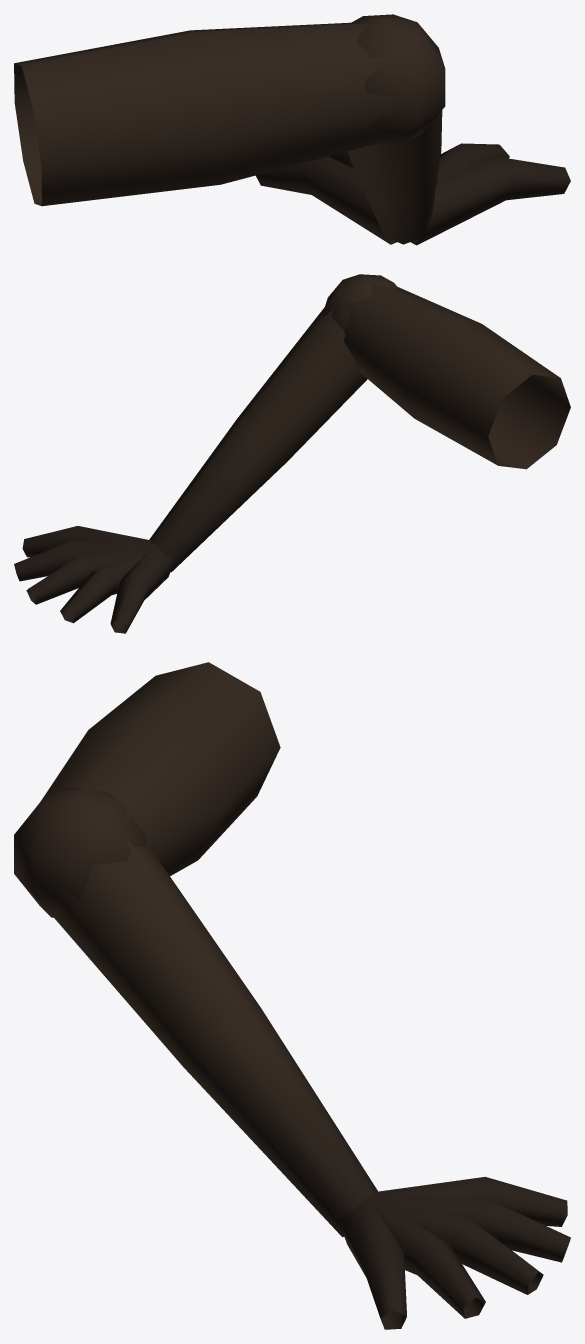
The model's file is Tokage_Leg2.fbx.
The picture shows the model from 3 angles, top to bottom: view 1: azimuth 30°, elevation 25°; view 2: azimuth 150°, elevation 25°; view 3: azimuth 270°, elevation 25°; orthographic projection. The views are drawn at different scales.
Visible parts, largest first — view 1: Tokage_Leg2; view 2: Tokage_Leg2; view 3: Tokage_Leg2.
Boxes of the visible parts, bbox=[...] form: Tokage_Leg2: bbox=[14, 14, 570, 245]; Tokage_Leg2: bbox=[14, 274, 570, 633]; Tokage_Leg2: bbox=[14, 662, 570, 1329].
Size of the model in its own units: 0.4885 by 0.2609 by 0.3527.
